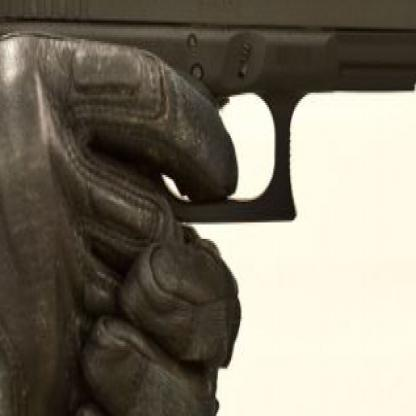gun: (0, 0, 415, 375)
